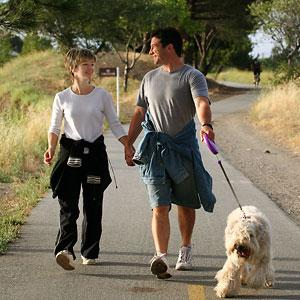person: (125, 28, 215, 277)
